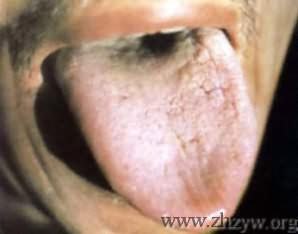baitaishe: (56, 26, 257, 230)
liewenshe: (164, 85, 227, 149)
